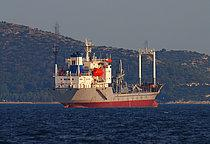Ship: (51, 36, 167, 111)
